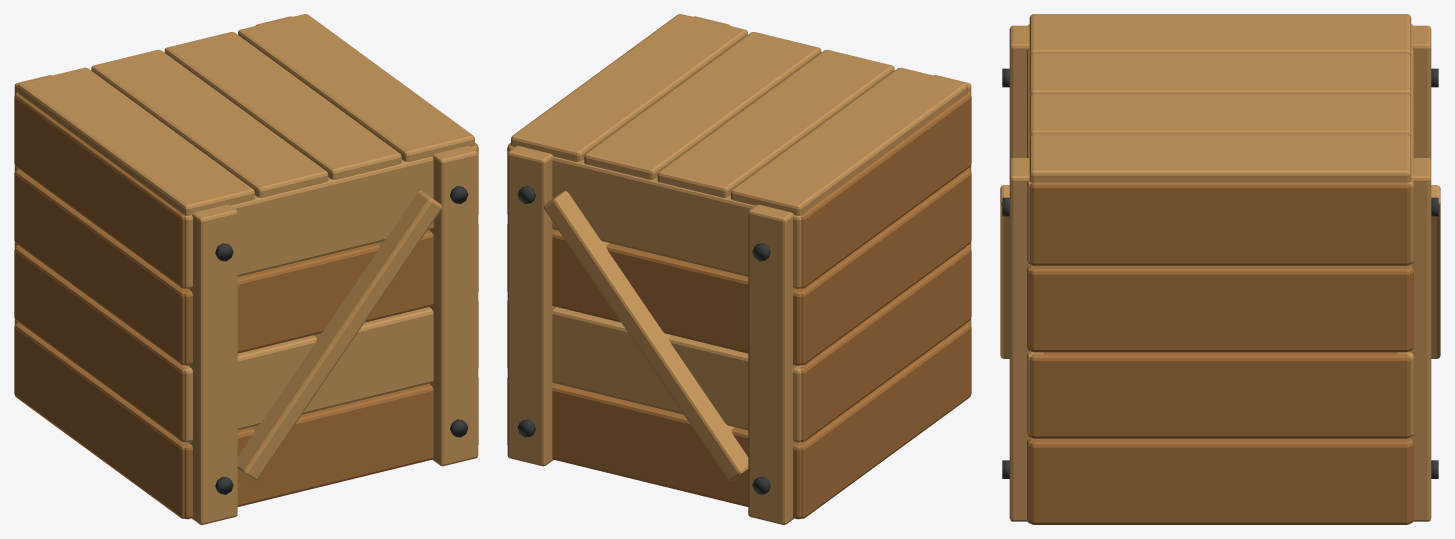
The model's file is 14_wooden_crate.glb.
The picture shows the model from 3 angles, left to right: view 1: azimuth 30°, elevation 25°; view 2: azimuth 150°, elevation 25°; view 3: azimuth 270°, elevation 25°; orthographic projection. The views are drawn at different scales.
Visible parts, largest first — view 1: Crate face plank.032, Crate face plank.035, Crate edging.017, Crate edging.016, Crate lid.016, Crate side plank.032, Crate side plank.034, Crate side plank.033, Crate side plank.035, Crate lid.017, Crate lid.018, Crate lid.019 (+3 smaller); view 2: Crate face plank.036, Crate face plank.039, Crate edging.019, Crate edging.018, Crate lid.016, Crate side plank.032, Crate side plank.034, Crate side plank.033, Crate side plank.035, Crate lid.017, Crate lid.018, Crate lid.019 (+3 smaller); view 3: Crate side plank.038, Crate side plank.036, Crate side plank.037, Crate side plank.039, Crate lid.019, Crate lid.016, Crate lid.018, Crate lid.017, Crate edging.017, Crate edging.019, Crate edging.016, Crate edging.018 (+4 smaller).
Part boxes in pixels (left/top/right/bottom): Crate face plank.032: left=184, top=383, right=433, bottom=519; Crate face plank.035: left=184, top=145, right=477, bottom=288; Crate edging.017: left=430, top=146, right=478, bottom=466; Crate edging.016: left=189, top=204, right=237, bottom=524; Crate lid.016: left=18, top=67, right=254, bottom=215; Crate side plank.032: left=14, top=323, right=189, bottom=518; Crate side plank.034: left=14, top=170, right=188, bottom=365; Crate side plank.033: left=14, top=246, right=185, bottom=441; Crate side plank.035: left=14, top=93, right=184, bottom=288; Crate lid.017: left=91, top=49, right=328, bottom=197; Crate lid.018: left=164, top=32, right=401, bottom=179; Crate lid.019: left=238, top=14, right=474, bottom=161; Crate face plank.036: left=552, top=383, right=801, bottom=519; Crate face plank.039: left=508, top=145, right=801, bottom=288; Crate edging.019: left=507, top=146, right=555, bottom=466; Crate edging.018: left=748, top=204, right=796, bottom=524; Crate lid.016: left=731, top=67, right=967, bottom=215; Crate side plank.032: left=796, top=323, right=971, bottom=518; Crate side plank.034: left=796, top=170, right=971, bottom=365; Crate side plank.033: left=800, top=246, right=971, bottom=441; Crate side plank.035: left=801, top=93, right=971, bottom=288; Crate lid.017: left=657, top=49, right=894, bottom=197; Crate lid.018: left=584, top=32, right=821, bottom=179; Crate lid.019: left=511, top=14, right=747, bottom=161; Crate side plank.038: left=1030, top=265, right=1410, bottom=352; Crate side plank.036: left=1030, top=438, right=1410, bottom=524; Crate side plank.037: left=1030, top=352, right=1410, bottom=438; Crate side plank.039: left=1030, top=182, right=1410, bottom=265; Crate lid.019: left=1029, top=135, right=1411, bottom=182; Crate lid.016: left=1029, top=14, right=1411, bottom=57; Crate lid.018: left=1029, top=94, right=1411, bottom=137; Crate lid.017: left=1029, top=54, right=1411, bottom=97; Crate edging.017: left=1009, top=158, right=1032, bottom=521; Crate edging.019: left=1408, top=158, right=1431, bottom=521; Crate edging.016: left=1009, top=25, right=1029, bottom=160; Crate edging.018: left=1411, top=25, right=1431, bottom=160.
Bounding box in the file's own units: 0.9135 × 0.9225 × 1.04.
